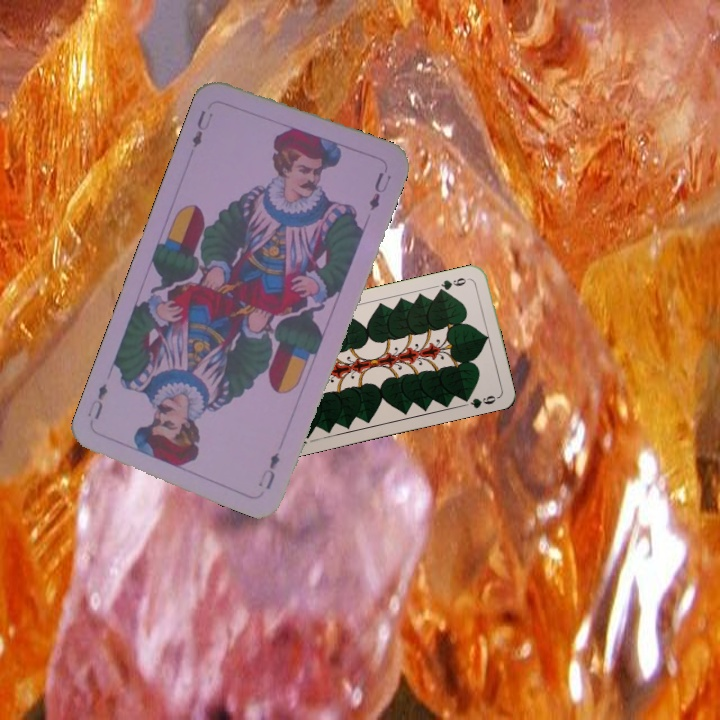EU: (254, 448, 283, 492), (188, 106, 216, 151)
G9: (434, 274, 472, 295)
